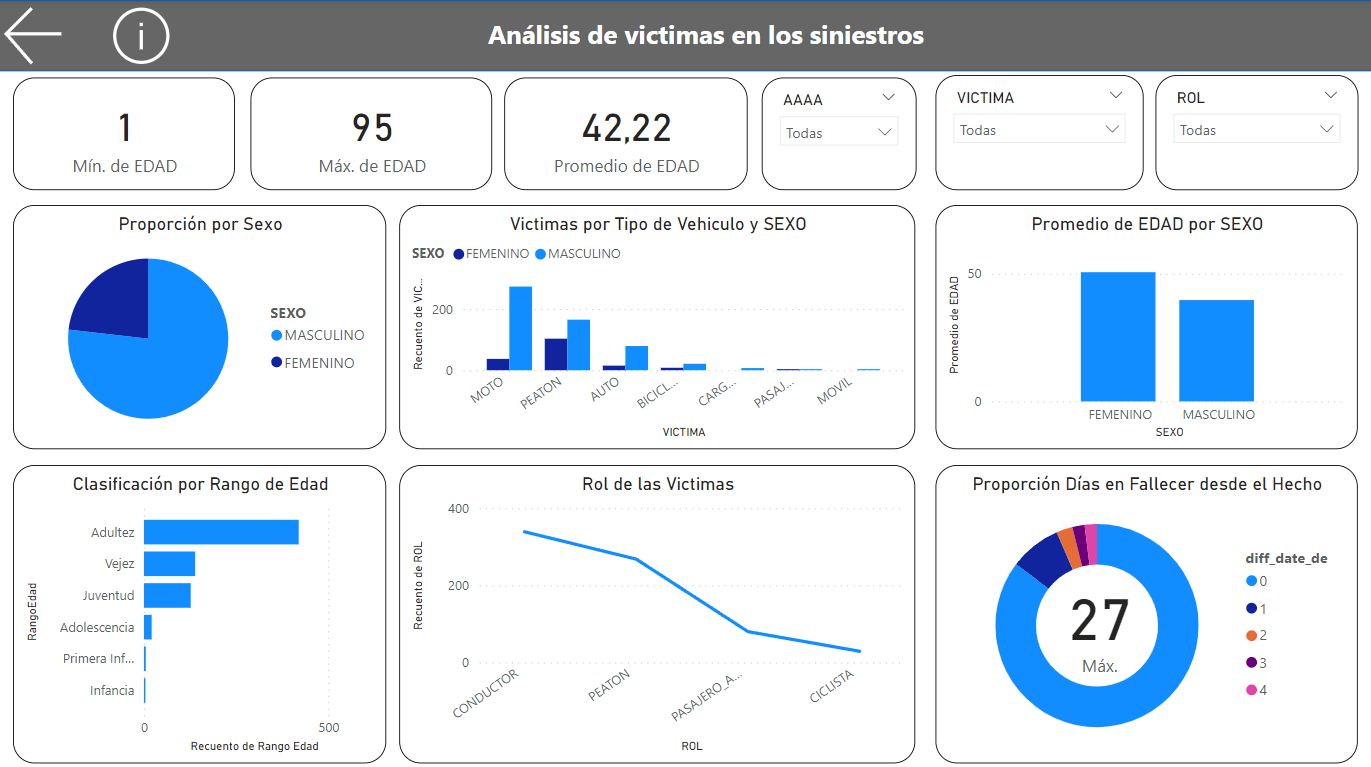

Layout of this report page (visuals, bound fields, positions):
{"tool":"powerbi","page":{"name":"Victimas","canvas":[1280,720],"ordinal":2},"visuals":[{"type":"shape","box":[0,0,1280,66.2],"z":0},{"type":"textbox","box":[392.5,11,531,42.5],"z":1000},{"type":"pieChart","title":"Proporción por Sexo","fields":{"Category":["homicidios_victimas_proc.SEXO"],"Y":["CountNonNull(homicidios_victimas_proc.SEXO)"]},"box":[13.8,191.2,347.5,227.5],"z":2000},{"type":"columnChart","fields":{"Y":["Avg(homicidios_victimas_proc.EDAD)"],"Category":["homicidios_victimas_proc.SEXO"]},"box":[872.5,191.2,392.5,227.5],"z":3000},{"type":"card","fields":{"Values":["Min(homicidios_victimas_proc.EDAD)"]},"box":[13.8,72.5,206.2,105],"z":4000},{"type":"card","fields":{"Values":["Max(homicidios_victimas_proc.EDAD)"]},"box":[235,72.5,225,105],"z":5000},{"type":"card","fields":{"Values":["Avg(homicidios_victimas_proc.EDAD)"]},"box":[471.2,72.5,226.2,105],"z":6000},{"type":"donutChart","title":"Proporción Días en Fallecer desde el Hecho","fields":{"Category":["homicidios_victimas_proc.diff_date_de"],"Y":["Divide(CountNonNull(homicidios_victimas_proc.diff_date_de), ScopedEval(CountNonNull(homicidios_victimas_proc.diff_date_d"]},"box":[872.5,432.5,392.5,277.5],"z":7000},{"type":"card","fields":{"Values":["Max(homicidios_victimas_proc.diff_date_de)"]},"box":[941.8,520.2,166.5,122.1],"z":8000},{"type":"clusteredBarChart","title":"Clasificación por Rango de Edad","fields":{"Category":["homicidios_victimas_proc.RangoEdad"],"Y":["CountNonNull(homicidios_victimas_proc.RangoEdad)"]},"box":[13.8,432.5,347.5,277.5],"z":9000},{"type":"slicer","fields":{"Values":["homicidios_victimas_proc.AAAA"]},"box":[710,72.5,143.8,105],"z":10000},{"type":"slicer","fields":{"Values":["homicidios_victimas_proc.VICTIMA"]},"box":[872.5,70,193.8,107.5],"z":11000},{"type":"slicer","fields":{"Values":["homicidios_victimas_proc.ROL"]},"box":[1076.2,70,188.8,107.5],"z":12000},{"type":"lineChart","title":"Rol de las Victimas","fields":{"Category":["homicidios_victimas_proc.ROL"],"Y":["CountNonNull(homicidios_victimas_proc.ROL)"]},"box":[373.8,432.5,480,277.5],"z":13000},{"type":"clusteredColumnChart","title":"Victimas por Tipo de Vehiculo y SEXO","fields":{"Category":["homicidios_victimas_proc.VICTIMA"],"Y":["CountNonNull(homicidios_victimas_proc.VICTIMA)"],"Series":["homicidios_victimas_proc.SEXO"]},"box":[373.8,191.2,480,227.5],"z":14000},{"type":"actionButton","box":[0,0,99.9,66.6],"z":15000},{"type":"actionButton","box":[99.9,0,74.9,66.6],"z":16000}]}

Visuals, with their boxes in screenshot pixels (x1, y1, x2, y2), scaled from the page's 1280x720 canvas onto the 1371x767 screenshot:
shape: {"x1": 0, "y1": 0, "x2": 1370, "y2": 71}
textbox: {"x1": 420, "y1": 12, "x2": 989, "y2": 57}
"Proporción por Sexo" pieChart: {"x1": 15, "y1": 204, "x2": 387, "y2": 446}
columnChart - Avg(homicidios_victimas_proc.EDAD) x homicidios_victimas_proc.SEXO: {"x1": 935, "y1": 204, "x2": 1355, "y2": 446}
card - Min(homicidios_victimas_proc.EDAD): {"x1": 15, "y1": 77, "x2": 236, "y2": 189}
card - Max(homicidios_victimas_proc.EDAD): {"x1": 252, "y1": 77, "x2": 493, "y2": 189}
card - Avg(homicidios_victimas_proc.EDAD): {"x1": 505, "y1": 77, "x2": 747, "y2": 189}
"Proporción Días en Fallecer desde el Hecho" donutChart: {"x1": 935, "y1": 461, "x2": 1355, "y2": 756}
card - Max(homicidios_victimas_proc.diff_date_de): {"x1": 1009, "y1": 554, "x2": 1187, "y2": 684}
"Clasificación por Rango de Edad" clusteredBarChart: {"x1": 15, "y1": 461, "x2": 387, "y2": 756}
slicer - homicidios_victimas_proc.AAAA: {"x1": 760, "y1": 77, "x2": 914, "y2": 189}
slicer - homicidios_victimas_proc.VICTIMA: {"x1": 935, "y1": 75, "x2": 1142, "y2": 189}
slicer - homicidios_victimas_proc.ROL: {"x1": 1153, "y1": 75, "x2": 1355, "y2": 189}
"Rol de las Victimas" lineChart: {"x1": 400, "y1": 461, "x2": 914, "y2": 756}
"Victimas por Tipo de Vehiculo y SEXO" clusteredColumnChart: {"x1": 400, "y1": 204, "x2": 914, "y2": 446}
actionButton: {"x1": 0, "y1": 0, "x2": 107, "y2": 71}
actionButton: {"x1": 107, "y1": 0, "x2": 187, "y2": 71}
